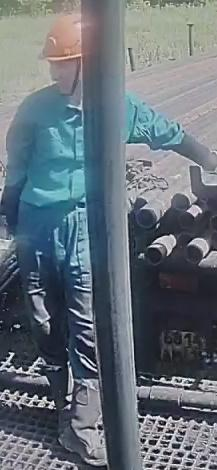gloves: (0, 230, 16, 266), (198, 145, 217, 175)
helmet: (37, 13, 83, 63)
vest: (0, 83, 87, 228)
